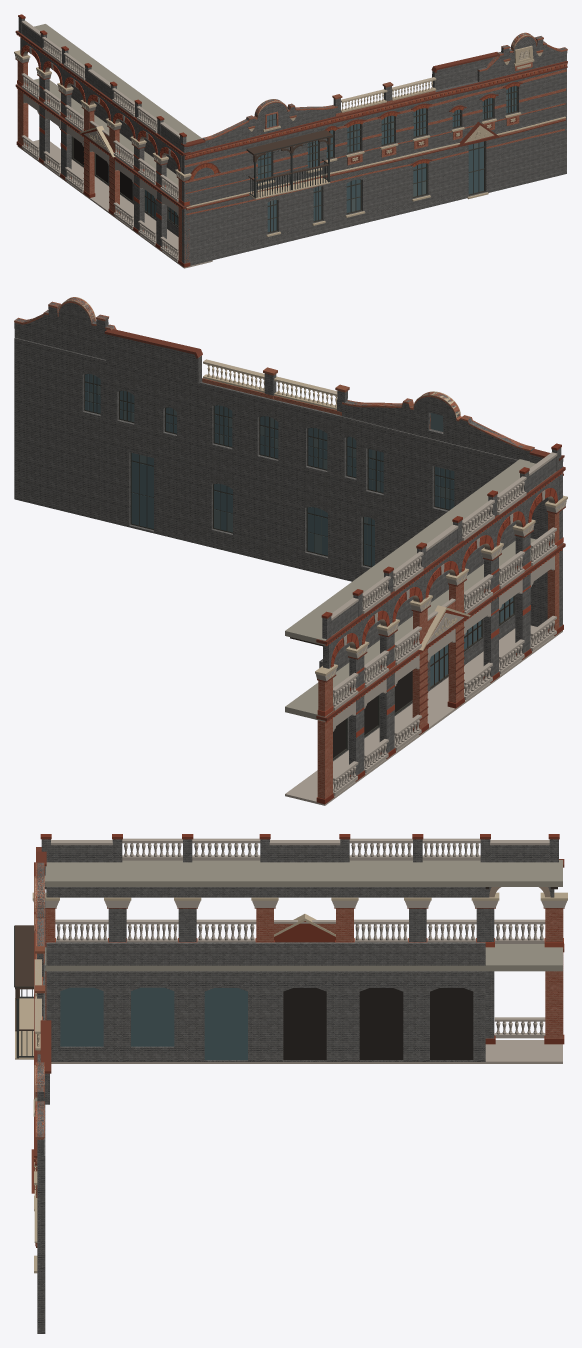
File: near.glb
The picture shows the model from 3 angles, top to bottom: view 1: azimuth 30°, elevation 25°; view 2: azimuth 150°, elevation 25°; view 3: azimuth 270°, elevation 25°; orthographic projection. The views are drawn at different scales.
Visible parts, largest first — view 1: 原南林师范学校旧址; view 2: 原南林师范学校旧址; view 3: 原南林师范学校旧址.
Part boxes in pixels (x1,y1,x2,y2): 原南林师范学校旧址: (14,14,567,268); 原南林师范学校旧址: (14,297,567,805); 原南林师范学校旧址: (14,834,567,1333).
Bounding box in the file's own units: 29.78 × 11.11 × 23.5.
Materials: 24 (2 with a texture image).
